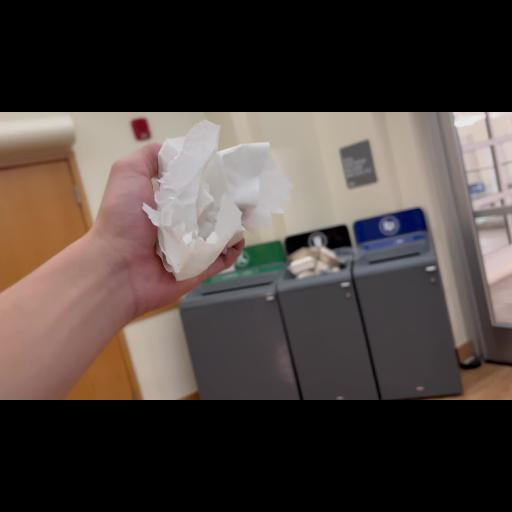napkin: (138, 118, 288, 286)
